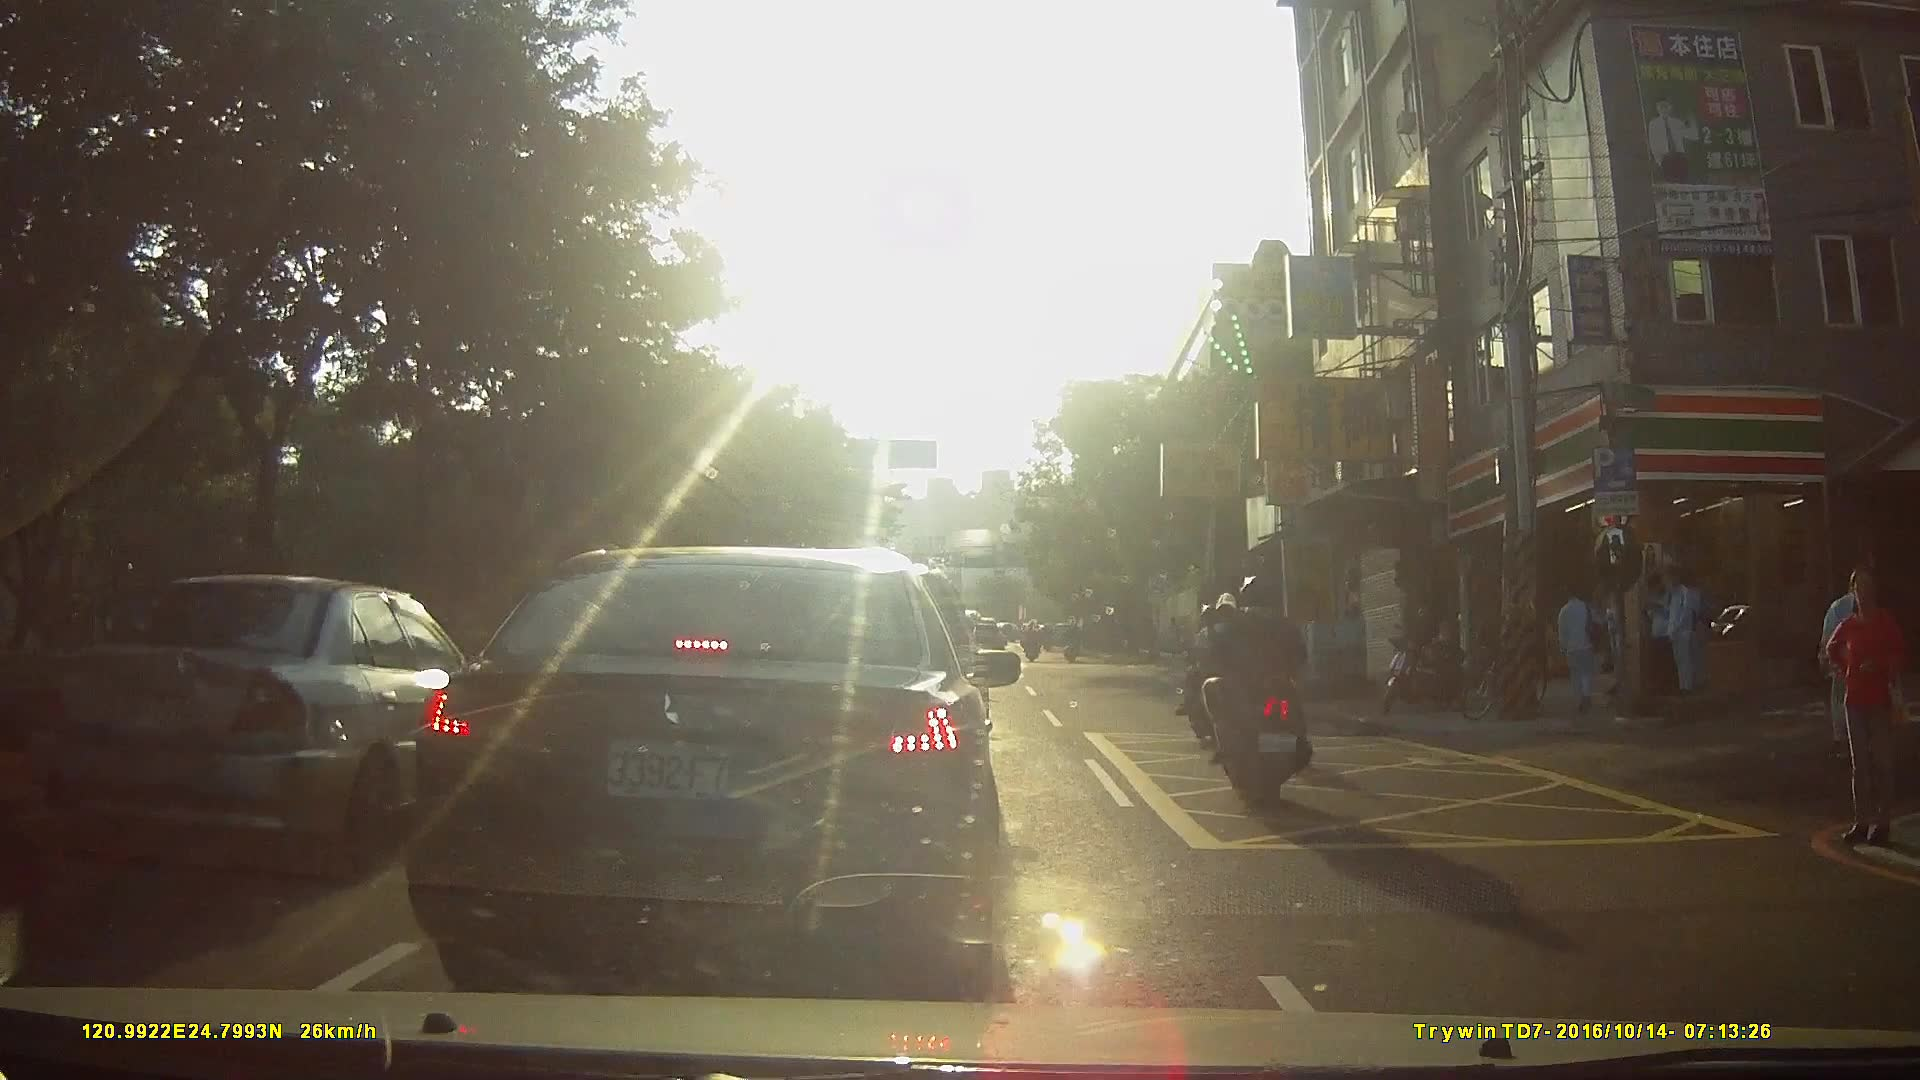pedestrian: (1824, 567, 1916, 854), (1817, 577, 1874, 774), (1554, 579, 1607, 715), (1642, 569, 1681, 704), (1658, 568, 1699, 699), (1675, 563, 1710, 695), (1604, 577, 1633, 709)
rider: (1201, 575, 1331, 801), (1062, 618, 1084, 664), (1023, 616, 1045, 665)
vehicle: (405, 538, 1038, 984), (78, 566, 505, 855)
